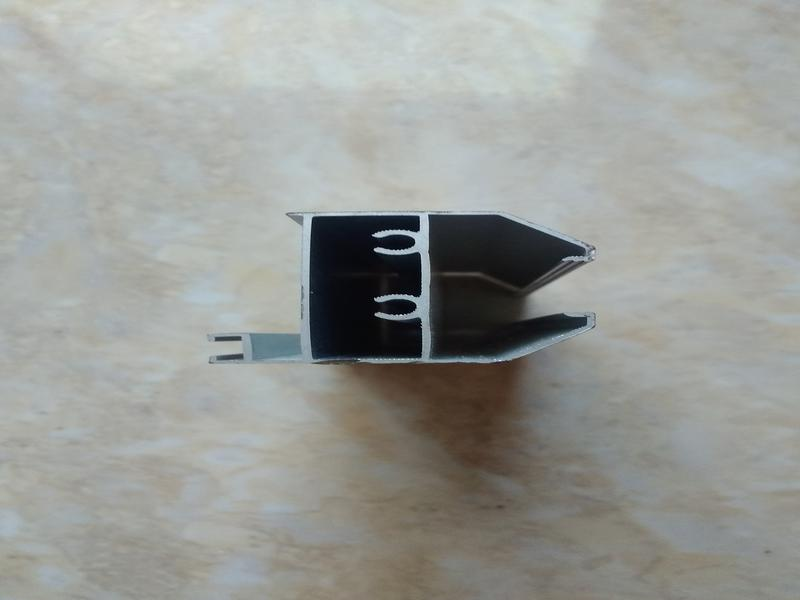Aluminium_3: (186, 175, 681, 405)
